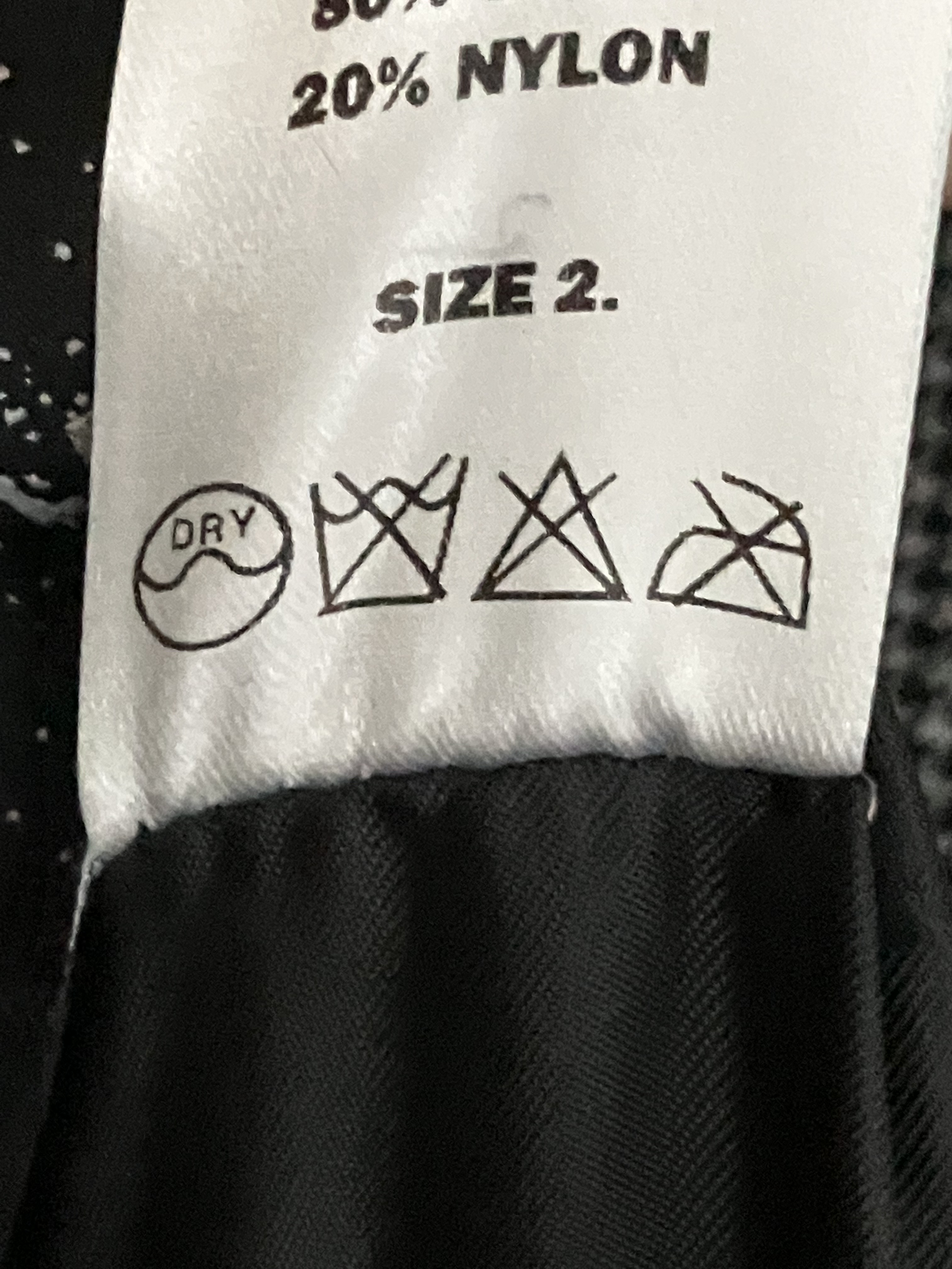KR_dry_clean: (117, 472, 297, 658)
KR_no_chlorine_bleach: (473, 449, 637, 616)
KR_no_iron: (642, 446, 828, 630)
KR_no_wash: (295, 457, 470, 616)
